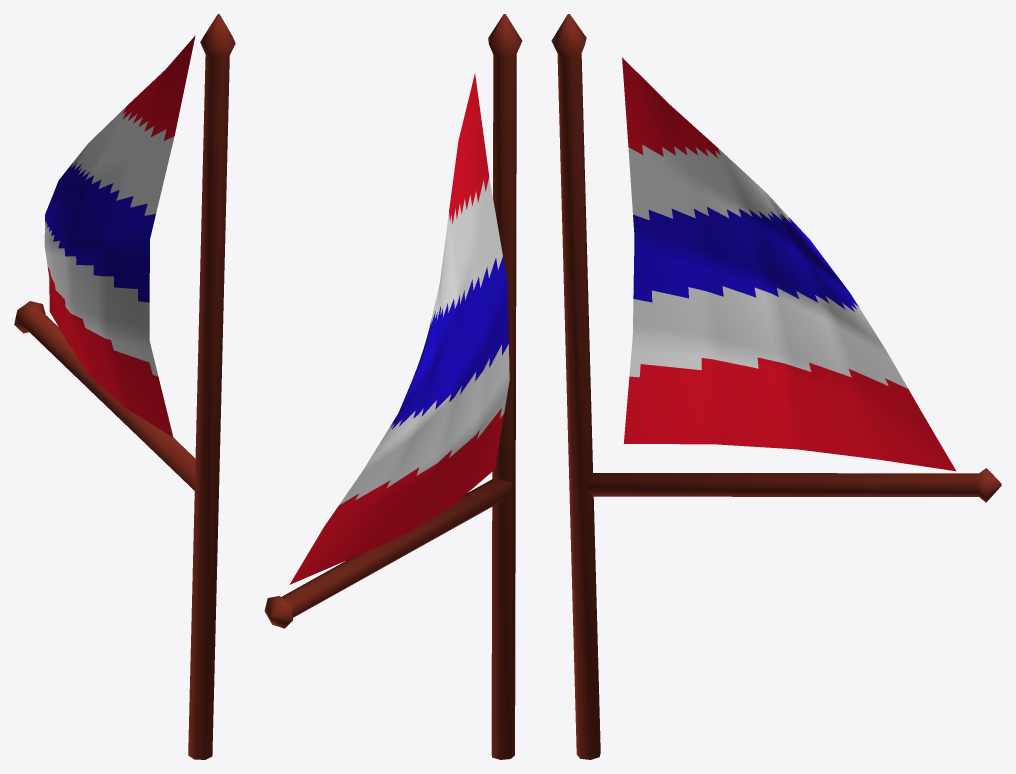
The model's file is flag.glb.
3 views of the same model, side by side, from view 1: azimuth 30°, elevation 25°; view 2: azimuth 150°, elevation 25°; view 3: azimuth 270°, elevation 25° (orthographic).
Parts seen in each view (by area): view 1: Plane.081, Cylinder.005, Cylinder.006; view 2: Plane.081, Cylinder.005, Cylinder.006; view 3: Plane.081, Cylinder.005, Cylinder.006.
Part boxes in pixels (box(x1,y1,x2,y2)): Plane.081: box(44, 35, 195, 437); Cylinder.005: box(188, 14, 235, 759); Cylinder.006: box(14, 301, 195, 490); Plane.081: box(289, 73, 509, 584); Cylinder.005: box(488, 14, 522, 759); Cylinder.006: box(264, 478, 513, 628); Plane.081: box(622, 57, 955, 471); Cylinder.005: box(551, 14, 600, 759); Cylinder.006: box(586, 468, 1001, 502).
Bounding box in the file's own units: 0.156 × 1.27 × 0.6936.
